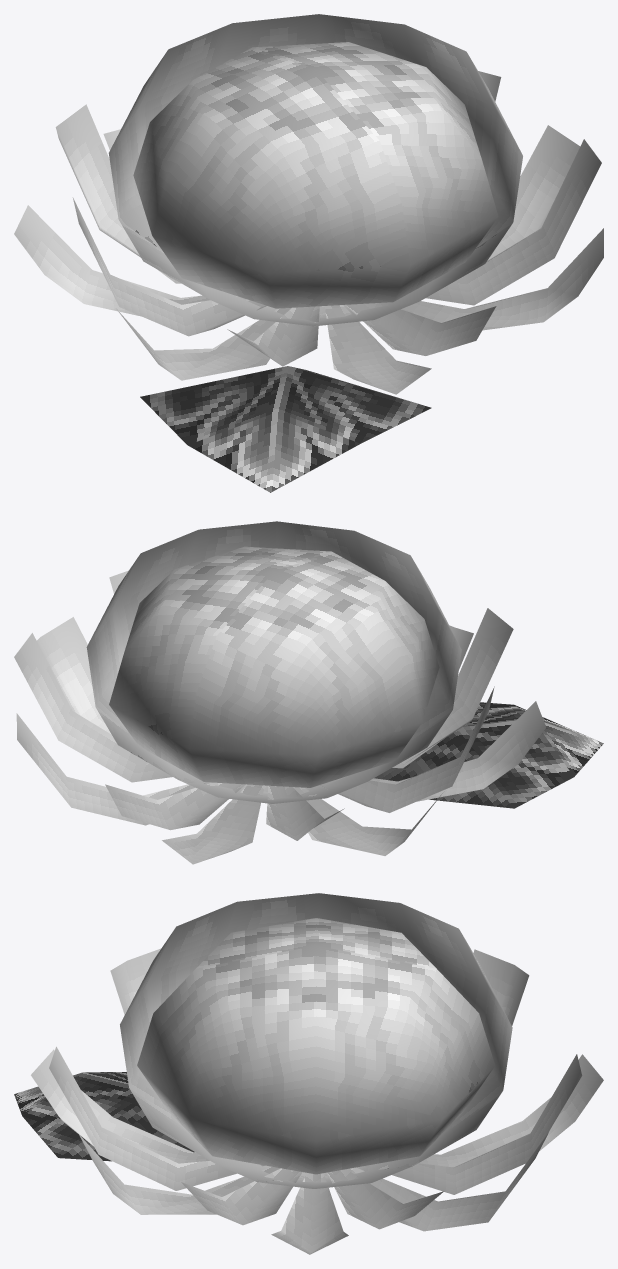
Rendered from CapPltOrnamentRMum.glb.
3 views of the same model, one above another, from view 1: azimuth 30°, elevation 25°; view 2: azimuth 150°, elevation 25°; view 3: azimuth 270°, elevation 25° (orthographic). The views are drawn at different scales.
Parts seen in each view (by area): view 1: Nairin_Neo__mMumFlower, Mum2A_LeafA__mMumBody; view 2: Nairin_Neo__mMumFlower, Mum2A_LeafA__mMumBody; view 3: Nairin_Neo__mMumFlower, Mum2A_LeafA__mMumBody.
Boxes of the visible parts, box(x1,y1,x2,y2) form: Nairin_Neo__mMumFlower: box(14, 14, 603, 394); Mum2A_LeafA__mMumBody: box(140, 366, 431, 492); Nairin_Neo__mMumFlower: box(14, 521, 546, 864); Mum2A_LeafA__mMumBody: box(374, 702, 603, 808); Nairin_Neo__mMumFlower: box(31, 893, 603, 1254); Mum2A_LeafA__mMumBody: box(14, 1072, 194, 1161).
Bounding box in the file's own units: 2.94 × 1.45 × 3.15.
Materials: 2 (2 with a texture image).
